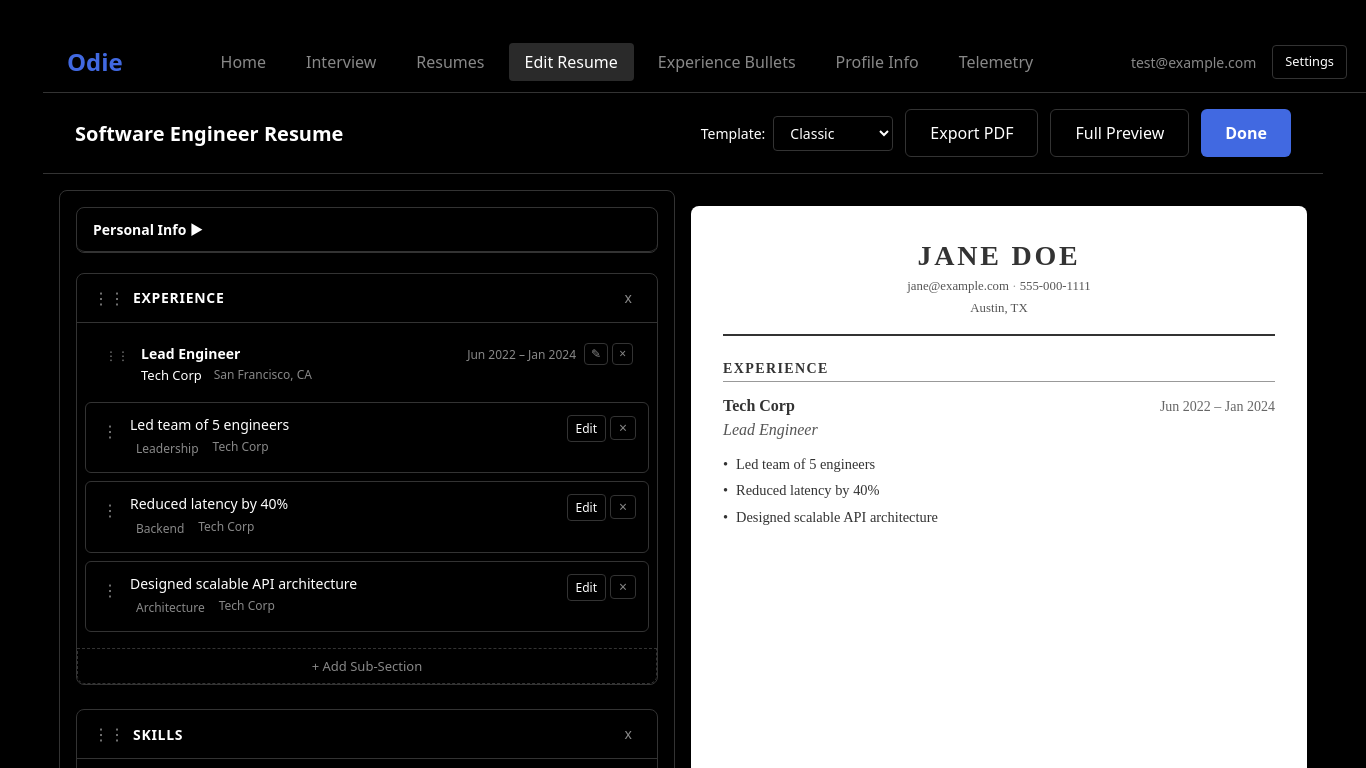
Test: ResumeBuilderPage › should show inline editor when edit clicked
Click the button with test id "edit-bullet-bullet-1". click: (586, 428)
box: [566, 414, 606, 442]
(page scrolled)
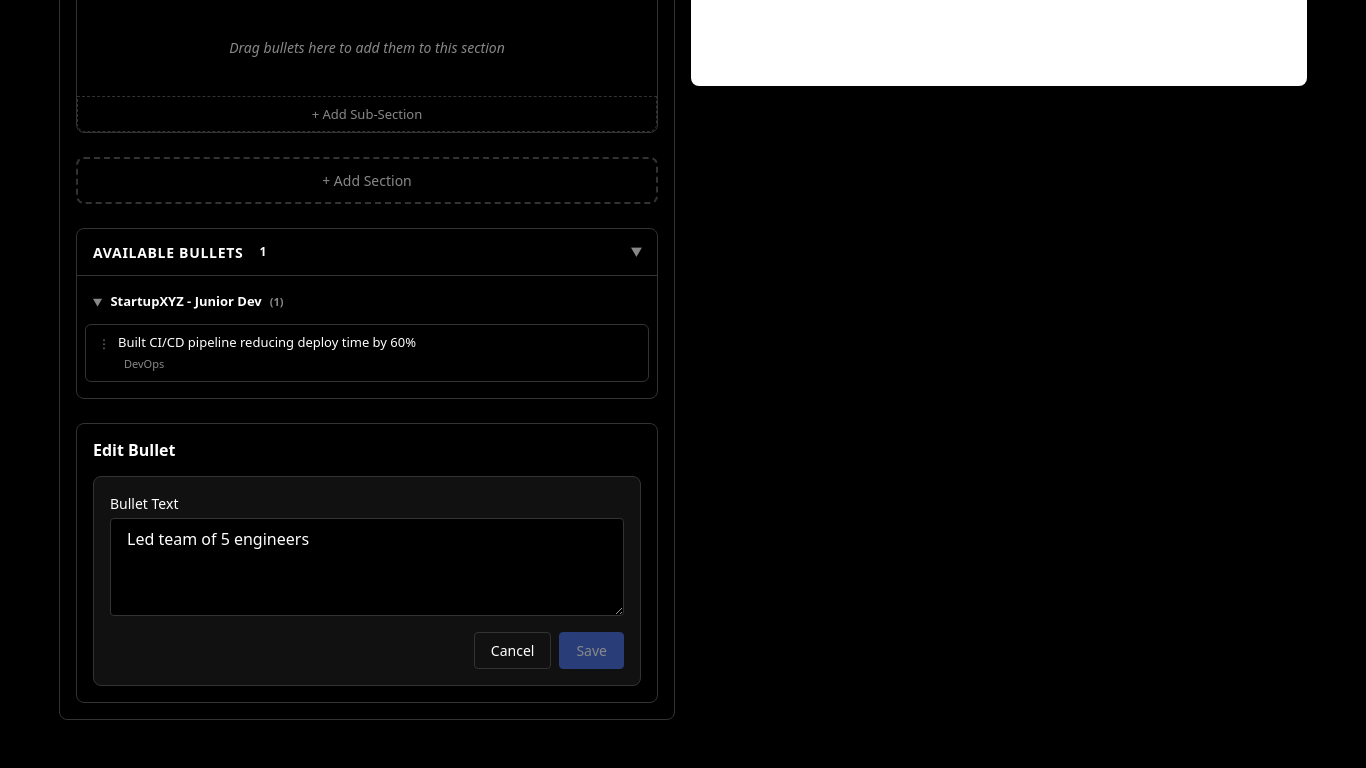
expect the element with test id "inline-editor" is shown: met, box [76, 424, 658, 704]
